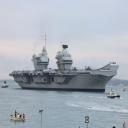Portanaves: (8, 38, 122, 92)
